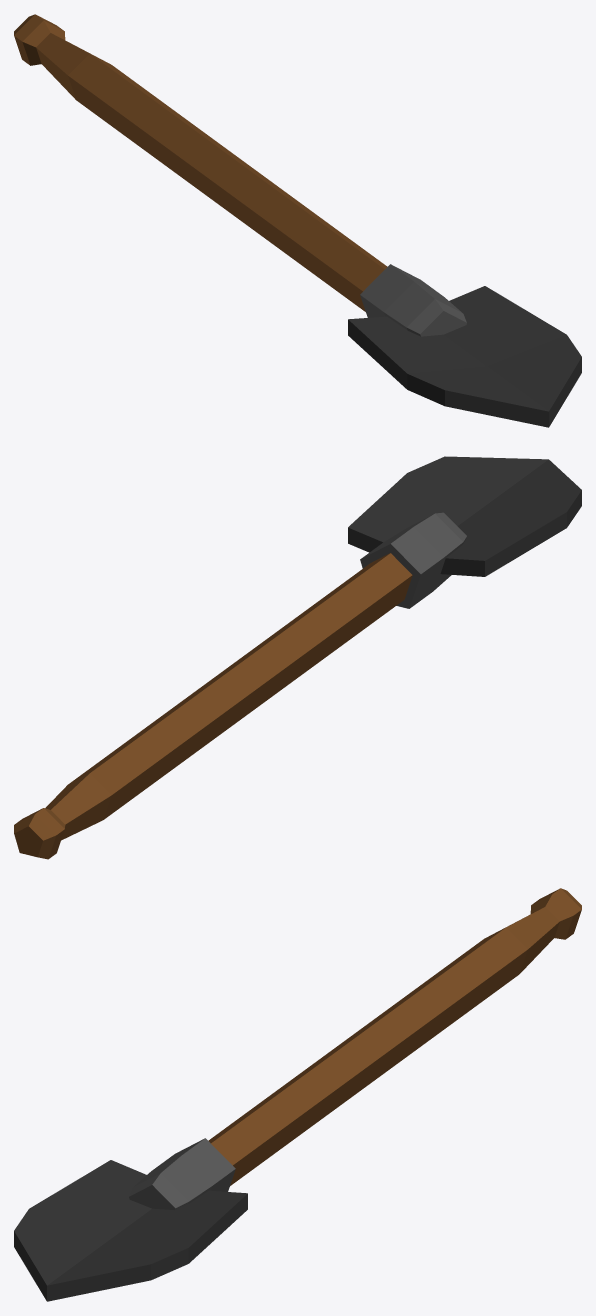
File: F_Shovel.fbx
3 renders of one model, top to bottom at view 1: azimuth 30°, elevation 25°; view 2: azimuth 150°, elevation 25°; view 3: azimuth 330°, elevation 25°, orthographic.
Parts seen in each view (by area): view 1: F_Shovel; view 2: F_Shovel; view 3: F_Shovel.
Boxes of the visible parts, left/top/right/bottom form: F_Shovel: left=14, top=14, right=581, bottom=427; F_Shovel: left=14, top=456, right=581, bottom=859; F_Shovel: left=14, top=888, right=581, bottom=1301.
Bounding box in the file's own units: 39.58 × 14.36 × 223.
